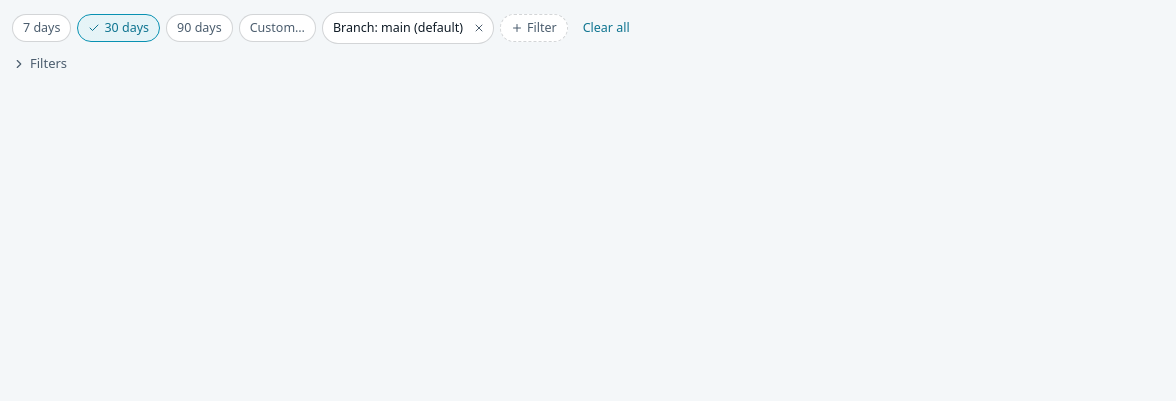
it: the area is chosen in two steps, by keyboard
Step 1. Click the button with aria-label "+ Filter" → click(534, 28), box [500,14,568,42]
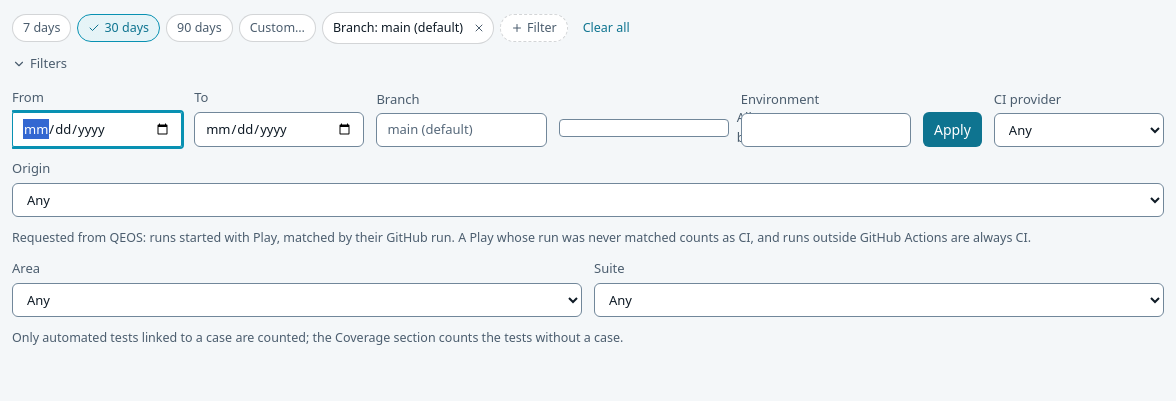
Step 2. Select "Feature" in the dropdown labelled "Area" → (297, 300), box [12,283,582,317]
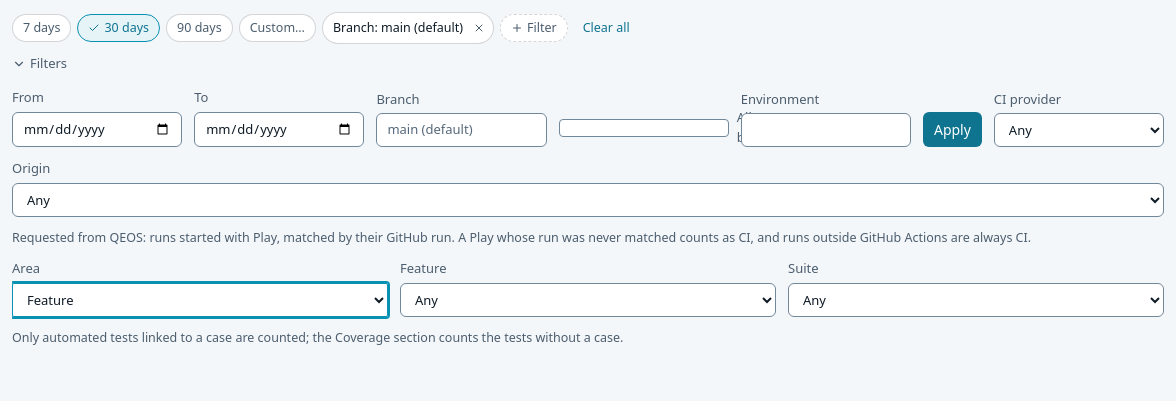
Step 3. Select "Payments" in the dropdown labelled "Feature" → (588, 300), box [400,283,776,317]
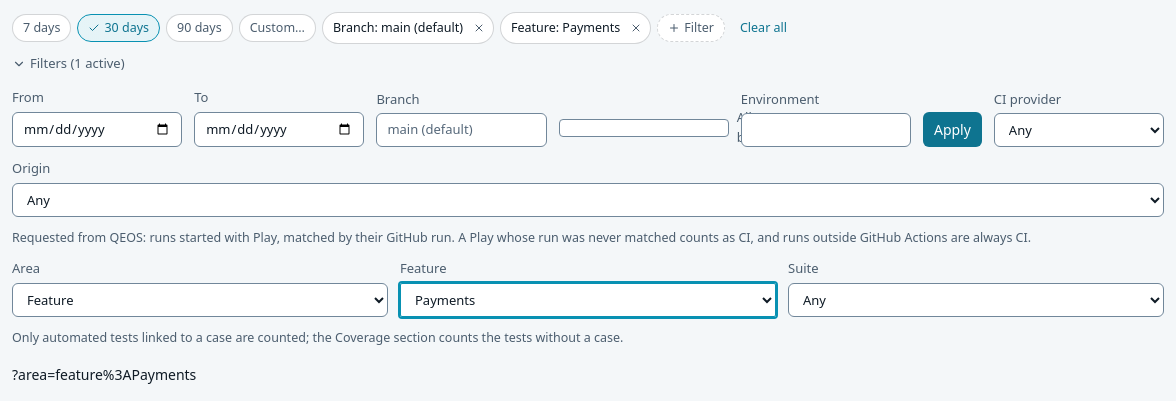
Check: the text with test id "search" reads "?area=feature%3APayments", box [12,364,196,384]
Step 4. Select "Folder" in the dropdown labelled "Area" → (200, 300), box [12,283,388,317]
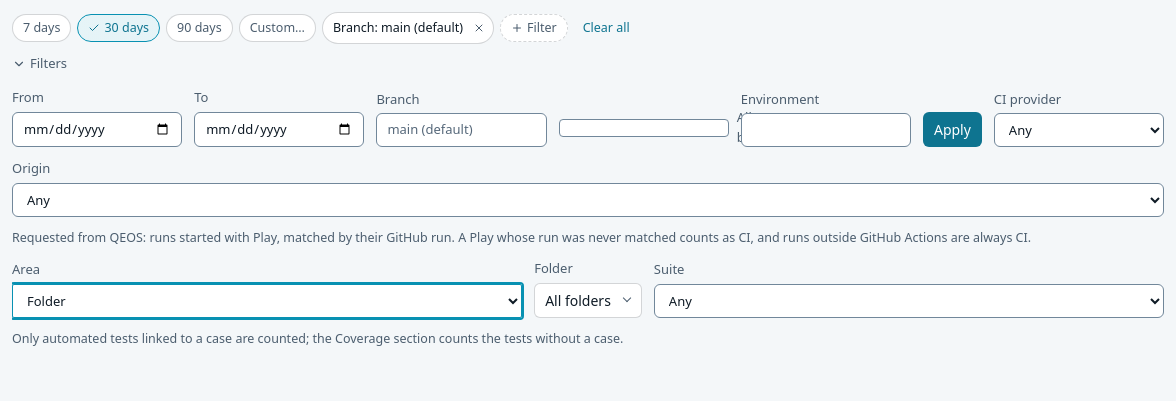
Check: the button "All folders" is shown, box [534,283,642,318]
